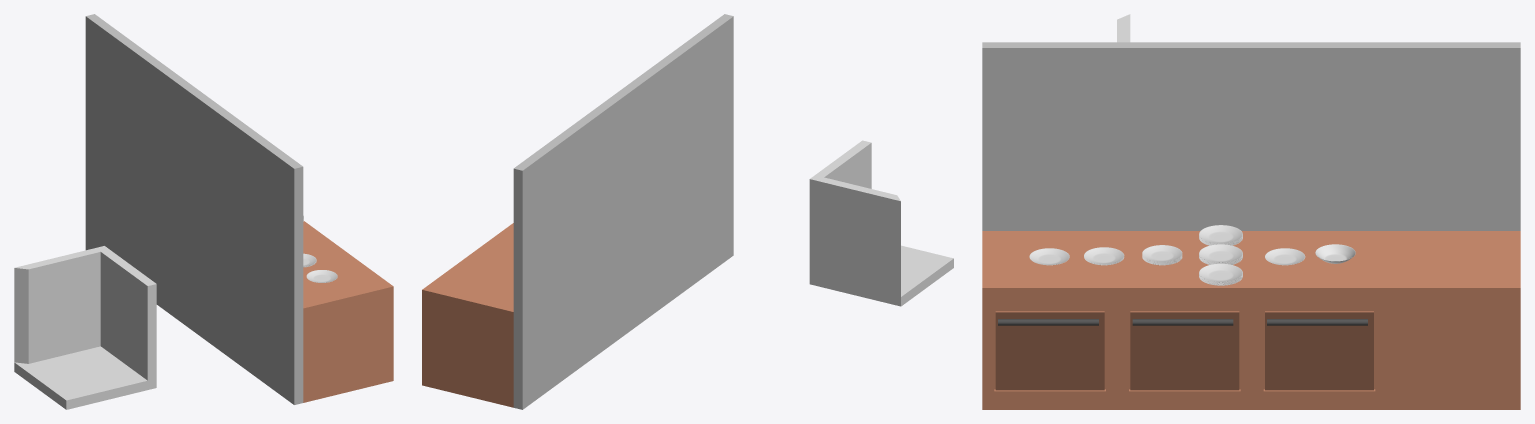
File: zona_1.fbx
The picture shows the model from 3 angles, left to right: view 1: azimuth 30°, elevation 25°; view 2: azimuth 150°, elevation 25°; view 3: azimuth 270°, elevation 25°; orthographic projection. The views are drawn at different scales.
Parts seen in each view (by area): view 1: pared zona 1, Cube.002, pared zona 2 y 3, pared zona 4, piso; view 2: pared zona 1, Cube, pared zona 2 y 3, piso, pared zona 4, Cube.002; view 3: pared zona 1, Cube.002, Cube, Cylinder.002, 4platos.003, 4platos.002, 4platos.001, 4platos, platogrande, 2platos, 1plato.001, 1plato.
Boxes of the visible parts, x1,y1,x2,y2 form: pared zona 1: (85,14,303,404); Cube.002: (303,221,393,402); pared zona 2 y 3: (14,246,104,363); pared zona 4: (100,246,156,380); piso: (14,346,156,409); pared zona 1: (513,14,733,409); Cube: (422,251,513,407); pared zona 2 y 3: (809,177,900,296); piso: (809,245,953,306); pared zona 4: (810,140,871,188); Cube.002: (475,223,513,260); pared zona 1: (982,42,1520,230); Cube.002: (982,231,1385,409); Cube: (1386,231,1520,409); Cylinder.002: (998,319,1367,325); 4platos.003: (1199,263,1242,285); 4platos.002: (1199,244,1242,264); 4platos.001: (1199,225,1242,245); 4platos: (1142,245,1182,265); platogrande: (1315,244,1355,263); 2platos: (1084,247,1124,265); 1plato.001: (1265,248,1305,265); 1plato: (1029,248,1069,265).
Bounding box in the file's own units: 723 × 500 × 800.
